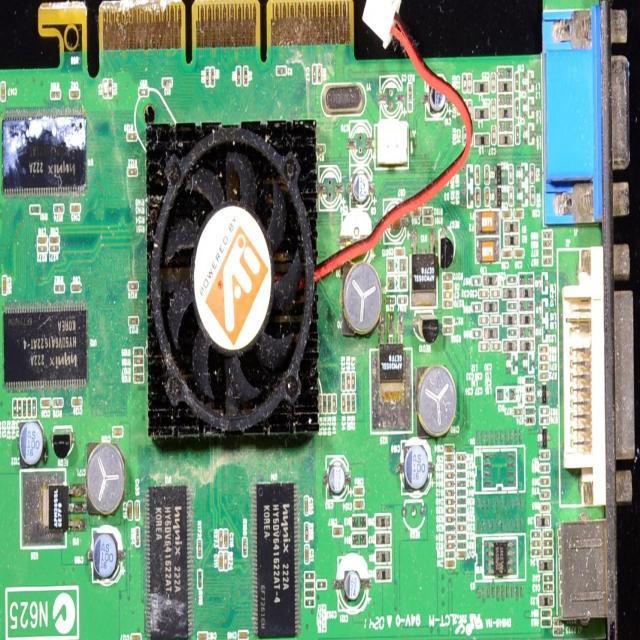Capacitor Jumper: (386, 294, 397, 305), (478, 315, 489, 326), (102, 78, 108, 98), (333, 526, 343, 538), (514, 72, 520, 91), (514, 208, 525, 218), (501, 209, 512, 219), (490, 340, 500, 351), (490, 74, 496, 92), (303, 497, 309, 515), (218, 552, 224, 569), (502, 248, 512, 258), (514, 248, 524, 258), (443, 281, 453, 291), (491, 288, 501, 298), (478, 341, 488, 351), (113, 426, 123, 436), (354, 487, 364, 497), (224, 529, 229, 549), (238, 630, 248, 640), (507, 301, 518, 310), (490, 315, 501, 324), (507, 329, 518, 338), (467, 100, 472, 119), (312, 64, 317, 83), (70, 90, 80, 99), (491, 100, 496, 118), (543, 238, 552, 248), (354, 500, 364, 509), (198, 631, 208, 640), (542, 249, 553, 257), (445, 560, 456, 568), (542, 257, 554, 264), (468, 74, 472, 94), (516, 98, 520, 118), (49, 235, 59, 243), (394, 248, 404, 256), (506, 274, 516, 282), (2, 278, 7, 294), (72, 398, 82, 406), (41, 400, 51, 408), (445, 445, 455, 453), (445, 454, 455, 462), (136, 500, 140, 520), (457, 550, 467, 558), (305, 572, 315, 580), (316, 580, 326, 588), (544, 584, 554, 592), (131, 632, 141, 640), (542, 231, 553, 238), (1, 82, 5, 101), (516, 125, 520, 144), (492, 125, 496, 144), (72, 283, 81, 291), (128, 502, 132, 520), (443, 292, 453, 299), (543, 575, 553, 582), (305, 599, 315, 606), (32, 399, 36, 416), (13, 400, 17, 417), (305, 545, 309, 562), (38, 235, 47, 242), (479, 290, 488, 297), (71, 206, 80, 212), (18, 400, 21, 417)
Connector: (557, 248, 640, 508), (539, 0, 633, 223), (558, 521, 614, 616)
IC: (252, 483, 301, 638), (144, 487, 192, 640), (2, 111, 87, 195), (3, 304, 88, 386), (20, 469, 86, 546), (369, 336, 413, 433), (409, 228, 437, 306), (482, 450, 517, 490), (483, 541, 517, 579)
Resistor Jumper: (204, 67, 210, 88), (484, 187, 490, 207), (304, 523, 310, 542), (236, 66, 242, 85), (471, 276, 482, 286), (398, 295, 408, 306), (133, 346, 144, 356), (198, 569, 203, 591), (209, 68, 215, 86), (484, 166, 489, 186), (475, 188, 480, 208), (30, 204, 40, 214), (472, 328, 482, 338), (525, 416, 535, 426), (540, 450, 550, 460), (197, 538, 202, 558), (305, 580, 315, 590), (317, 64, 322, 84), (471, 303, 482, 312), (525, 406, 536, 415), (540, 477, 551, 486), (540, 490, 551, 499), (304, 588, 315, 597), (276, 65, 287, 74), (140, 86, 148, 98), (444, 534, 456, 542), (530, 186, 535, 205), (462, 74, 467, 92), (475, 166, 480, 184), (128, 283, 138, 292), (134, 374, 144, 383), (540, 406, 549, 416), (514, 408, 524, 417), (538, 345, 549, 353), (540, 504, 551, 512), (445, 524, 456, 532), (508, 165, 513, 182), (509, 188, 514, 205), (346, 395, 351, 412), (553, 627, 565, 634), (128, 167, 137, 176), (38, 244, 47, 253), (457, 524, 466, 533), (51, 90, 61, 98), (128, 132, 136, 142), (50, 244, 60, 252), (442, 273, 452, 281), (55, 285, 65, 293), (443, 316, 453, 324), (128, 317, 138, 325), (134, 357, 144, 365), (524, 375, 534, 383), (540, 416, 550, 424), (540, 464, 550, 472), (445, 480, 455, 488), (456, 488, 466, 496), (444, 489, 454, 497), (444, 507, 454, 515), (135, 529, 140, 545), (445, 550, 455, 558), (224, 551, 228, 571), (541, 619, 551, 627), (108, 78, 112, 97), (530, 164, 534, 183), (28, 398, 32, 417), (134, 366, 143, 374), (525, 394, 534, 402), (333, 394, 337, 412), (318, 395, 322, 413), (445, 463, 454, 471), (219, 530, 223, 548), (446, 542, 455, 550), (243, 538, 247, 556), (244, 66, 248, 84), (54, 205, 64, 212), (424, 208, 434, 215), (443, 300, 453, 307), (443, 327, 453, 334), (524, 385, 534, 392), (53, 400, 63, 407), (456, 454, 466, 461), (445, 516, 455, 523), (541, 610, 551, 617), (553, 618, 563, 625), (352, 394, 356, 411), (424, 217, 432, 225), (323, 395, 327, 411), (162, 79, 171, 86), (539, 354, 548, 361), (540, 372, 549, 379), (457, 462, 466, 469), (457, 498, 466, 505), (457, 506, 466, 513), (346, 373, 350, 388), (456, 472, 466, 478), (445, 473, 455, 479), (457, 534, 467, 540), (456, 542, 466, 548), (540, 363, 548, 370), (446, 499, 455, 505), (457, 516, 466, 522), (342, 395, 345, 412), (456, 481, 466, 486), (352, 373, 355, 389), (342, 374, 345, 390), (328, 396, 331, 412), (23, 399, 26, 415)
Transistor: (490, 163, 504, 186), (516, 164, 530, 186), (516, 186, 530, 207), (490, 188, 504, 208), (537, 384, 551, 404), (538, 428, 552, 448)
